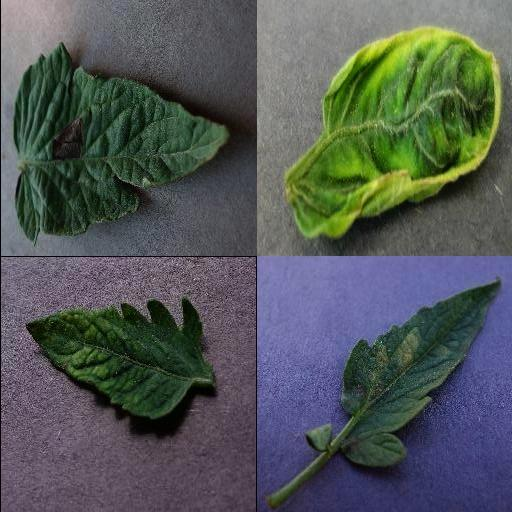Early Blight: (13, 42, 229, 248)
Leaf Mold: (337, 282, 503, 466)
Mosaic Virus: (22, 294, 206, 420)
Yellow Leaf Curl Virus: (284, 24, 502, 240)
